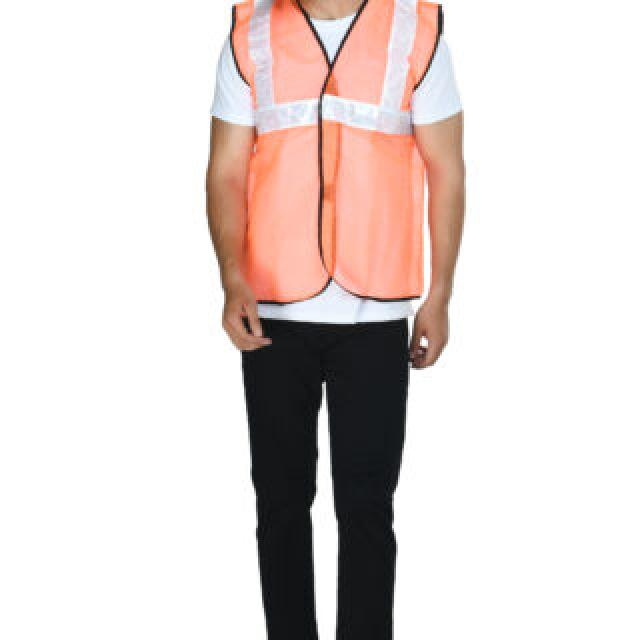Reflective-Jacket: (226, 4, 446, 302)
